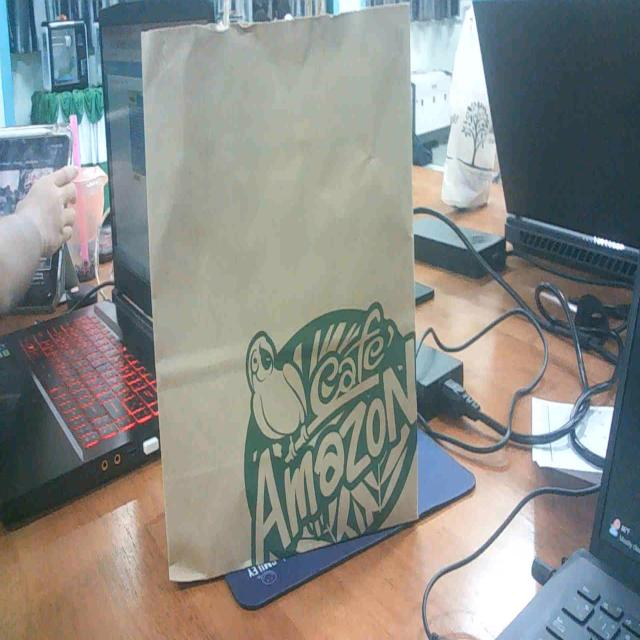bag: (130, 9, 422, 572)
